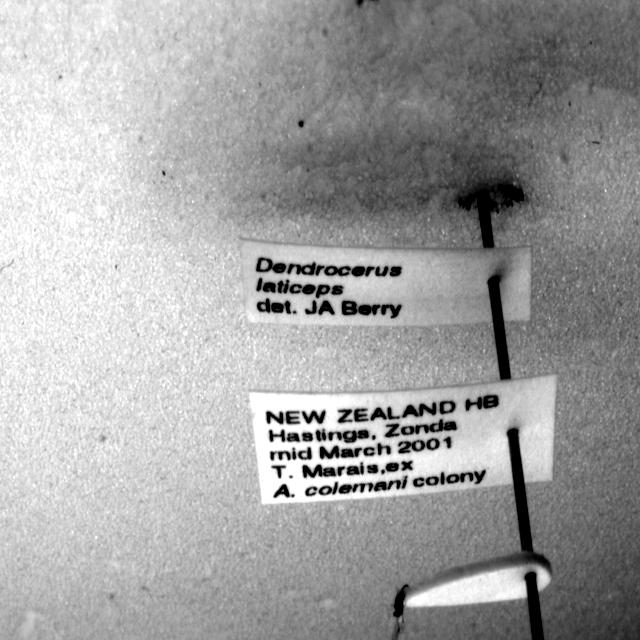typed_label: (250, 375, 558, 504), (241, 240, 531, 326)
